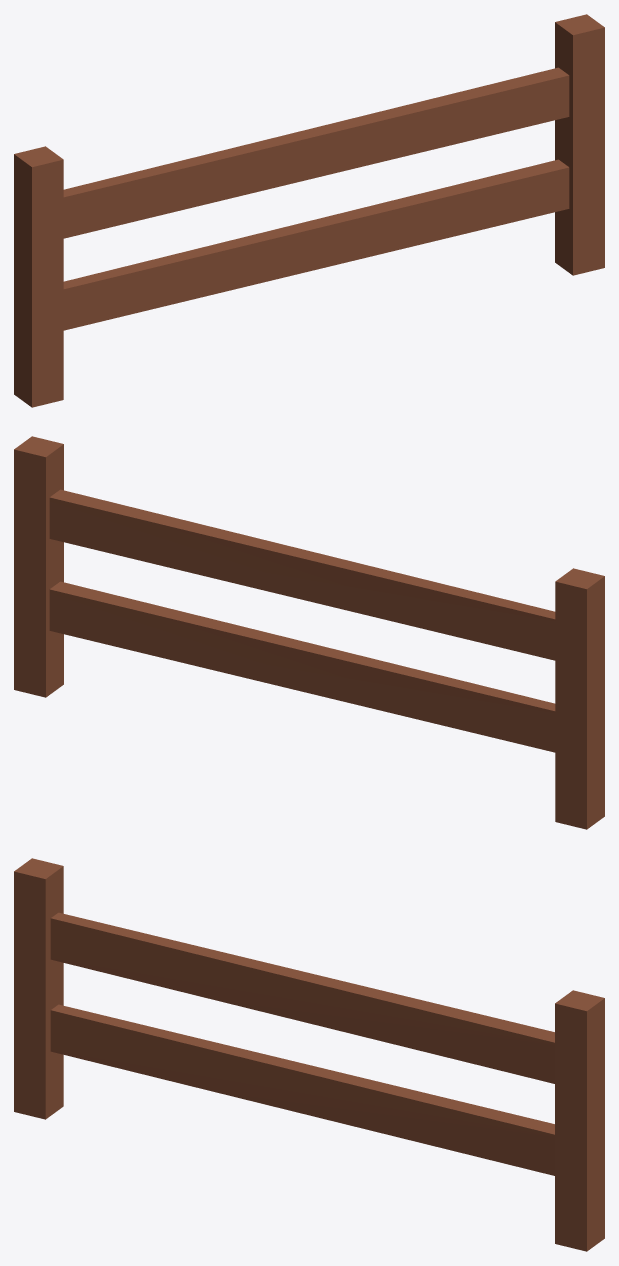
File: fence.simple.close.glb
3 renders of one model, top to bottom at view 1: azimuth 30°, elevation 25°; view 2: azimuth 150°, elevation 25°; view 3: azimuth 330°, elevation 25°, orthographic.
Parts seen in each view (by area): view 1: fence.simple.close; view 2: fence.simple.close; view 3: fence.simple.close.
Part boxes in pixels (box(x1,y1,x2,y2)): fence.simple.close: box(14, 14, 604, 407); fence.simple.close: box(14, 436, 604, 829); fence.simple.close: box(14, 858, 604, 1251).
Size of the model in its own units: 3.03 by 1.21 by 0.1655.
